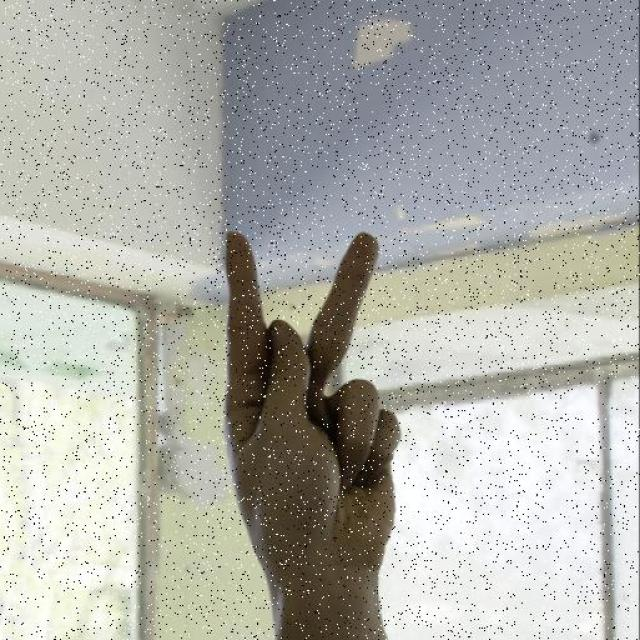K: (192, 212, 438, 640)
